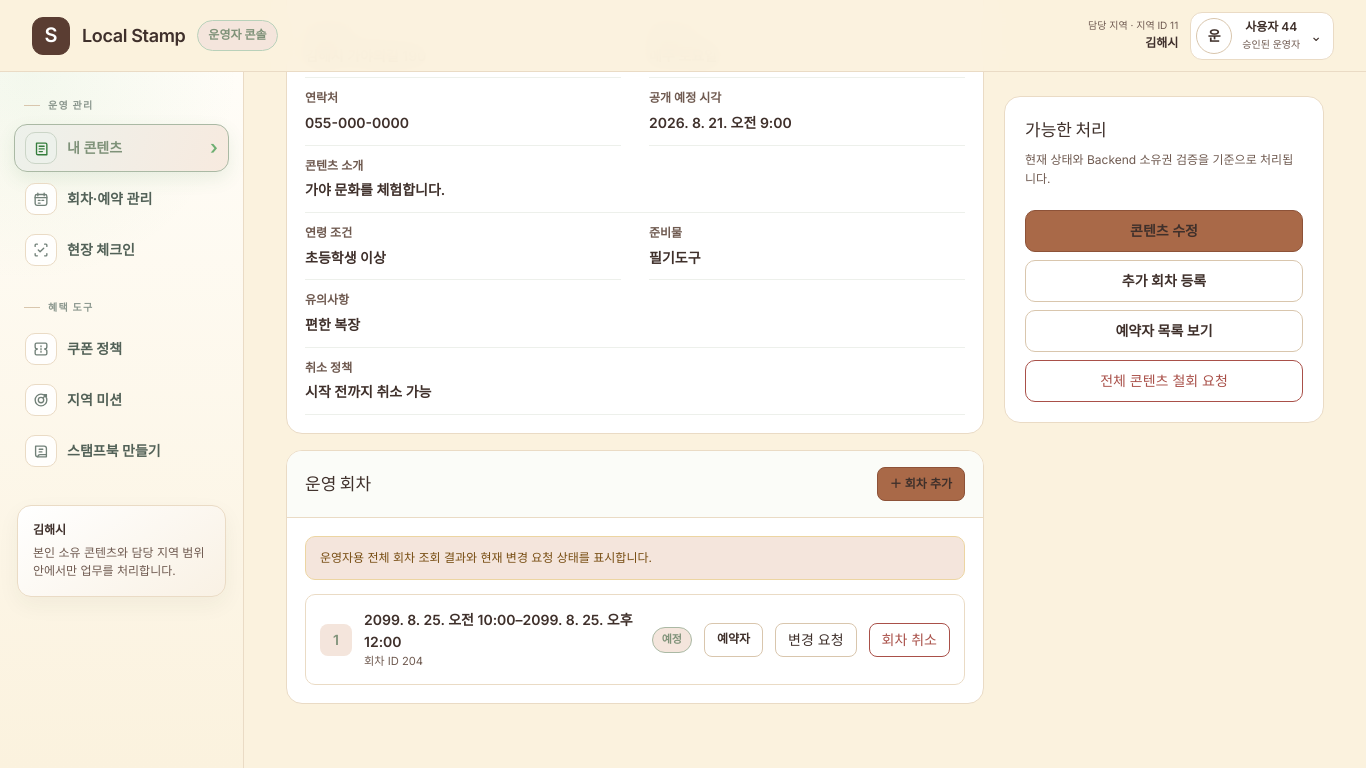
it: 운영자 회차 생성·변경·취소 흐름 › 변경 요청 성공 후 중복 요청 버튼을 막고 심사 상태를 표시한다
(page scrolled)
Click the button "변경 요청" at (816, 640), box [775,623,857,657]
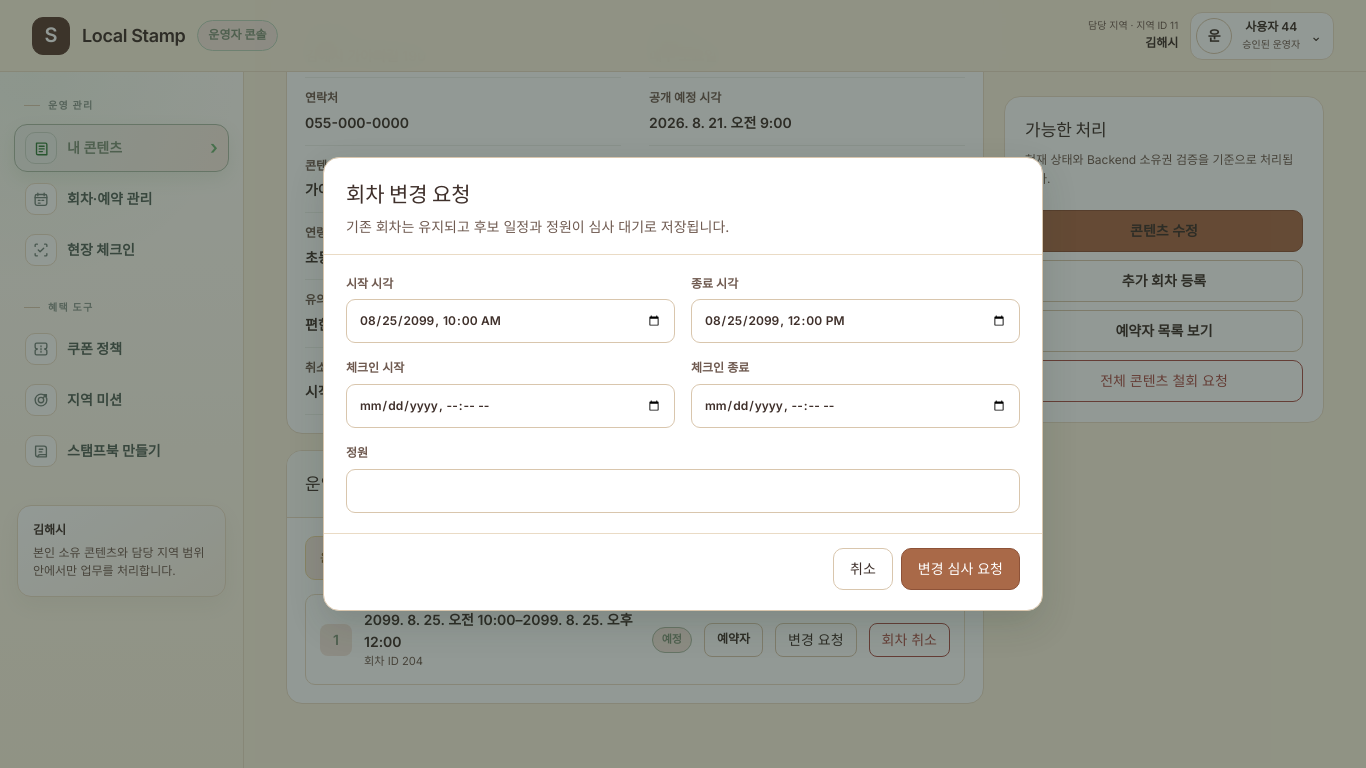
Type "2099-08-25T09:30" into the field labelled "체크인 시작" at (510, 406), box [346,384,675,428]
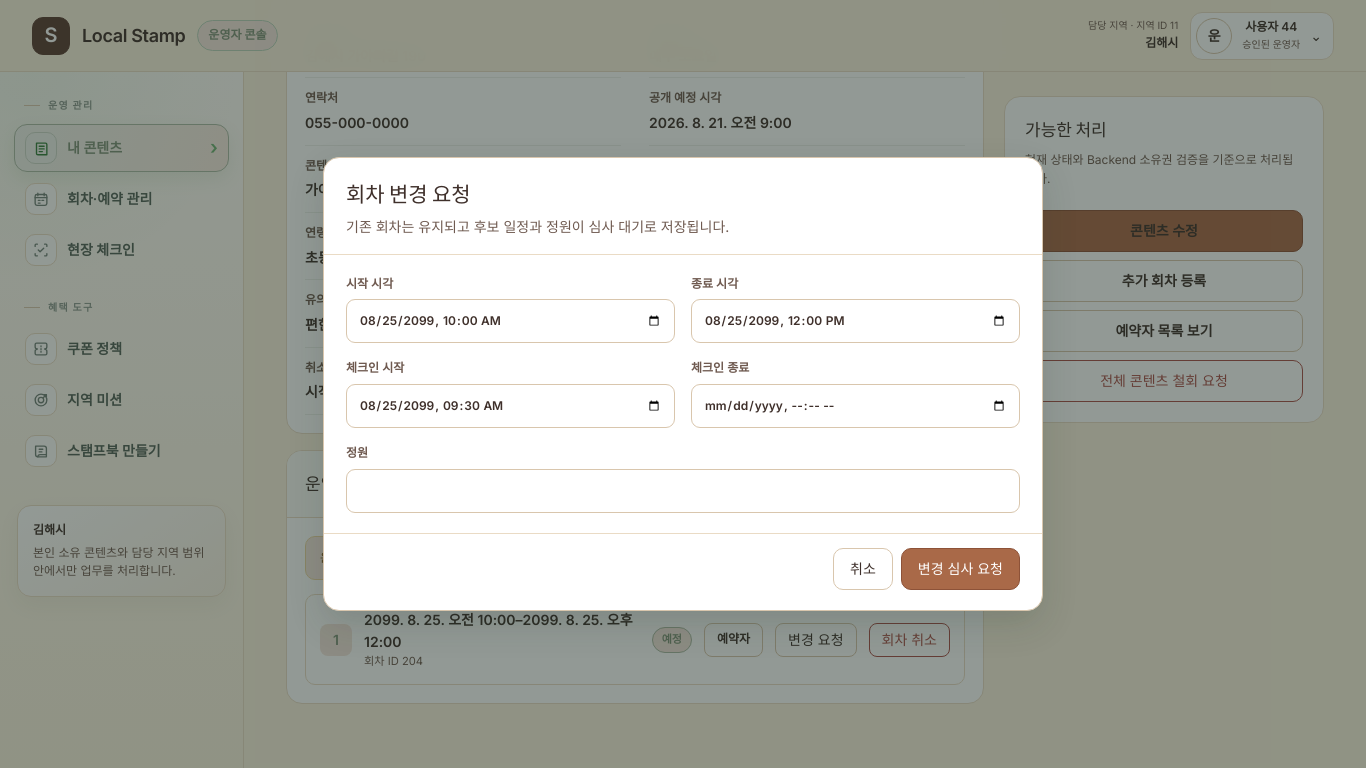
Type "2099-08-25T10:30" into the field labelled "체크인 종료" at (856, 406), box [691,384,1020,428]
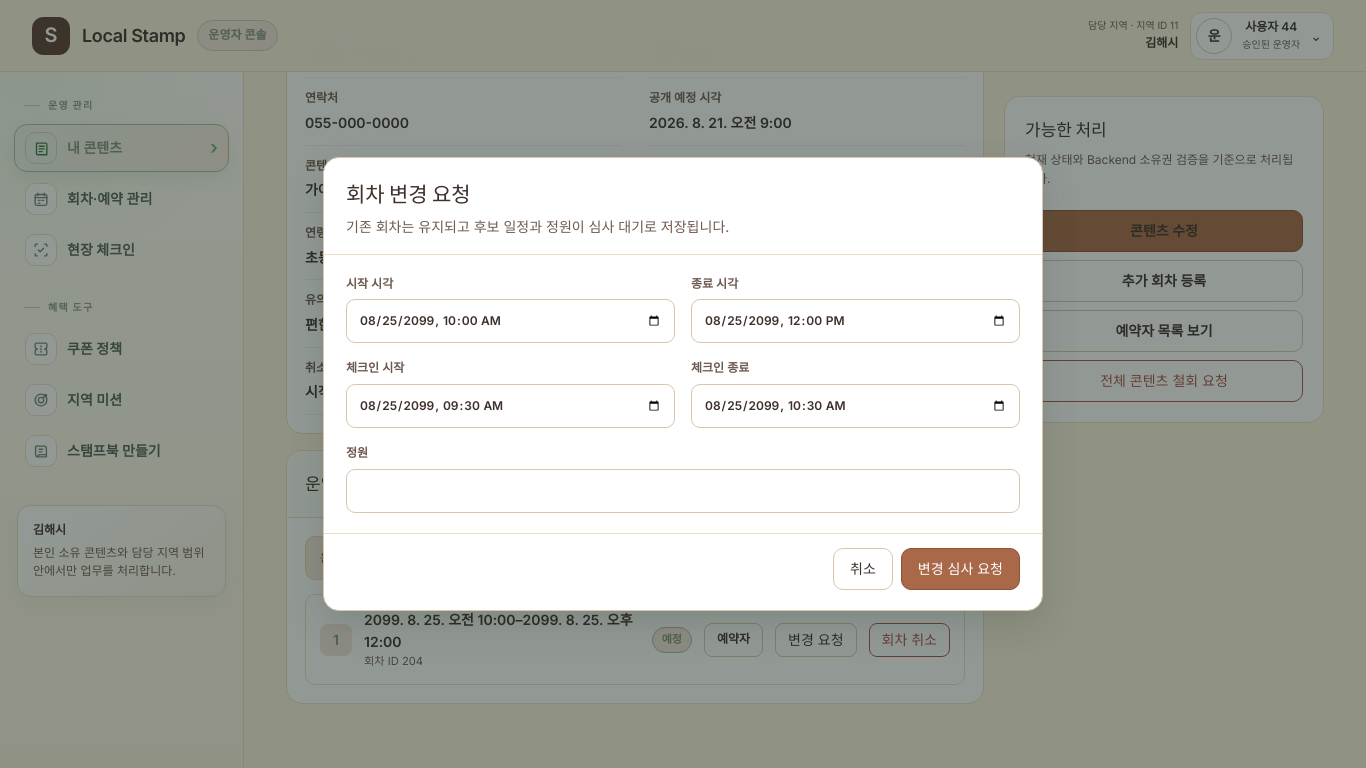
Type "20" into the number field labelled "정원" at (683, 490), box [346,468,1020,512]
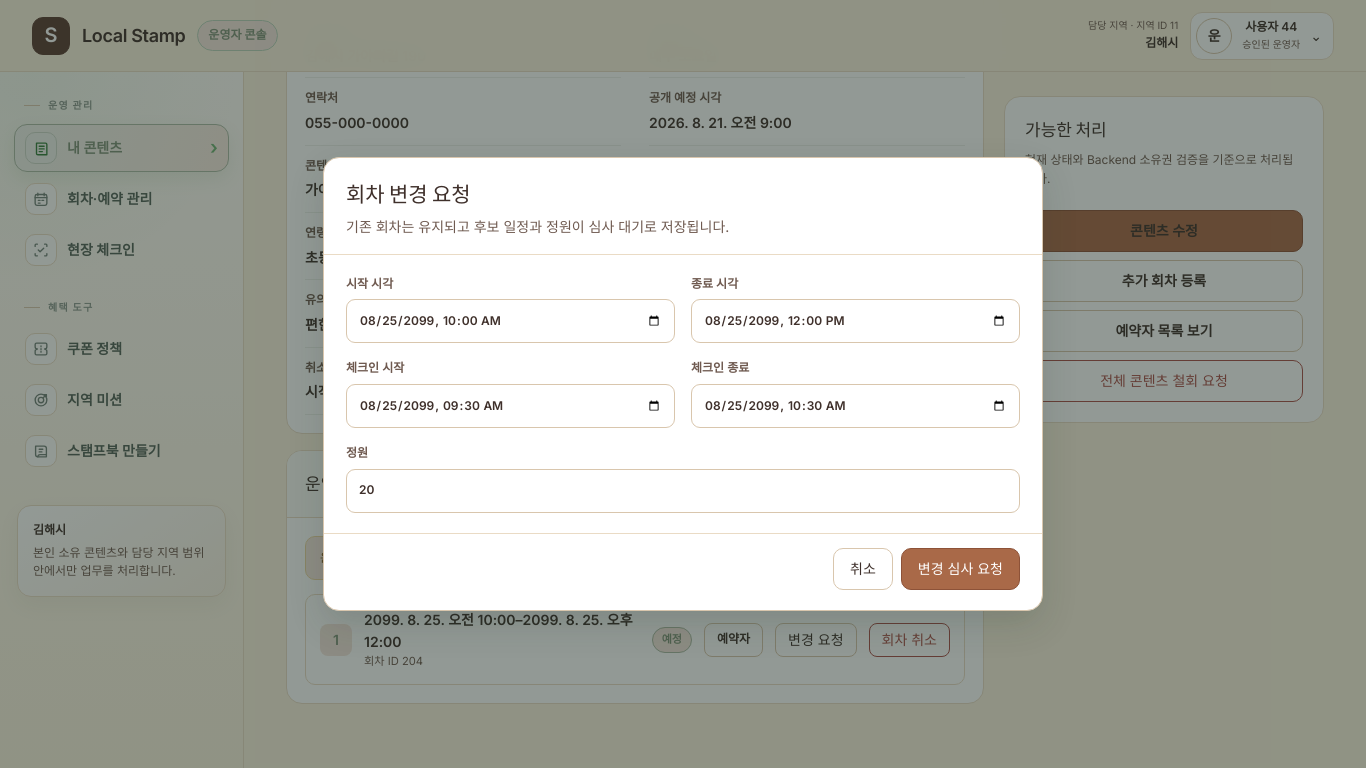
Click the button "변경 심사 요청" at (960, 568), box [901,548,1020,590]
(page scrolled)
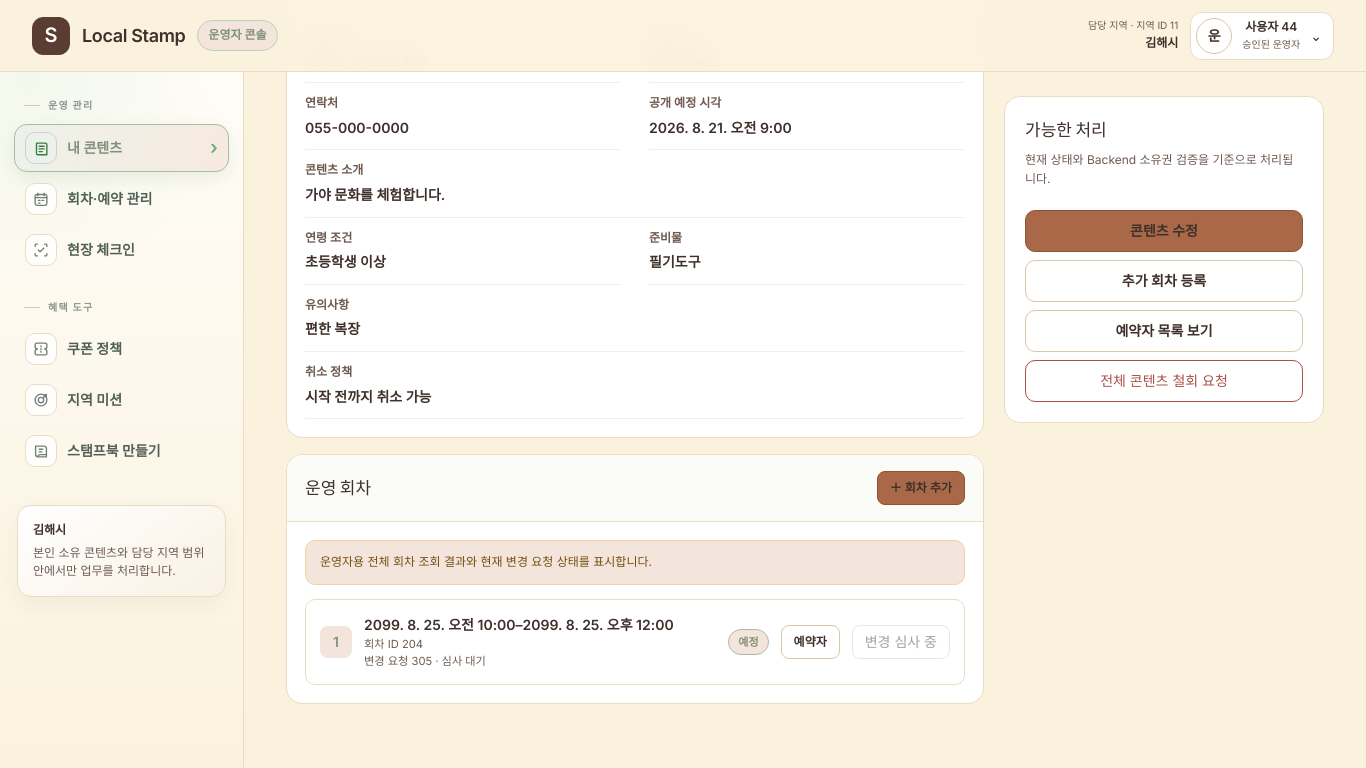
Result: the text "변경 요청 305 · 심사 대기" is shown at [364,654,486,668]
Result: the button "변경 심사 중" is disabled at [852,625,950,659]
Result: the button "회차 취소" is gone
